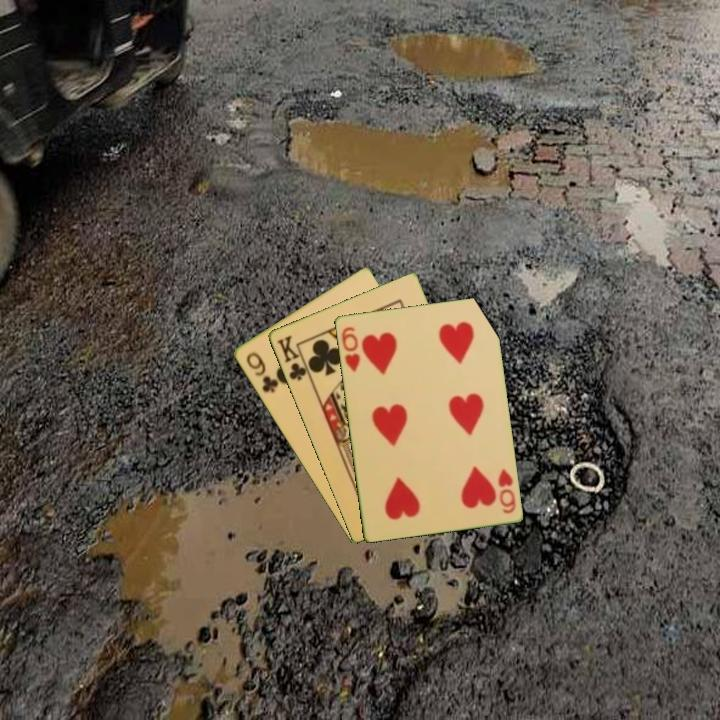6h: (338, 323, 363, 374), (494, 465, 519, 516)
9c: (242, 348, 281, 395)
Kc: (273, 332, 313, 383)
